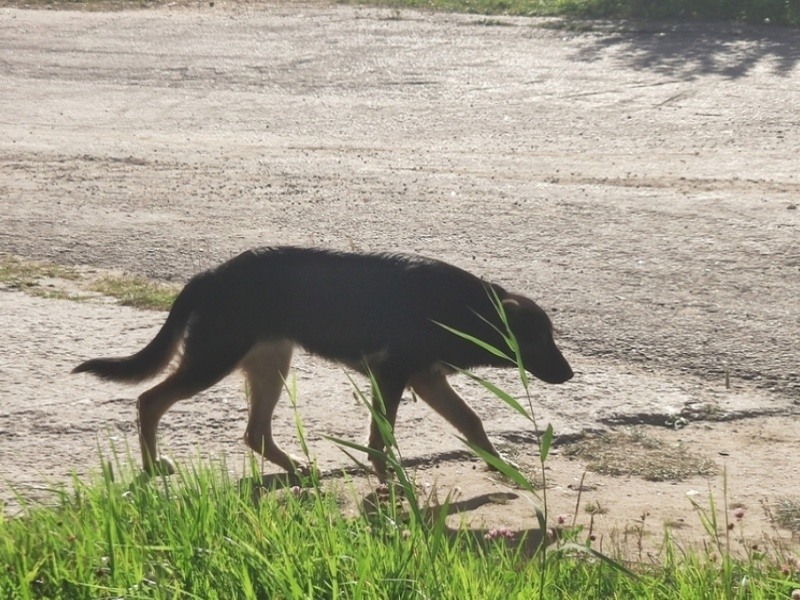dog: (67, 248, 577, 485)
